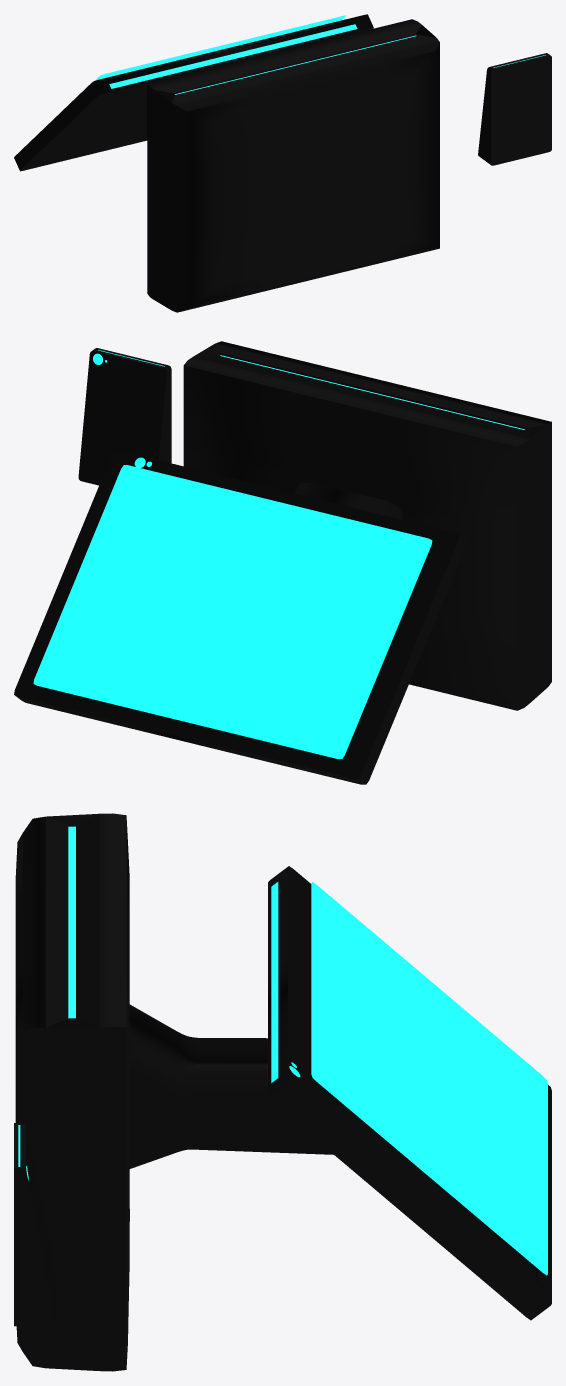
Rendered from BP_CashRegister_low.fbx.
3 views of the same model, one above another, from view 1: azimuth 30°, elevation 25°; view 2: azimuth 150°, elevation 25°; view 3: azimuth 270°, elevation 25° (orthographic). The views are drawn at different scales.
Visible parts, largest first — view 1: Box001; view 2: Box001; view 3: Box001.
Part boxes in pixels (x1,y1,x2,y2): Box001: (14,14,551,312); Box001: (14,341,551,784); Box001: (14,813,551,1371).
Size of the model in its own units: 63.02 by 33.85 by 47.92.
